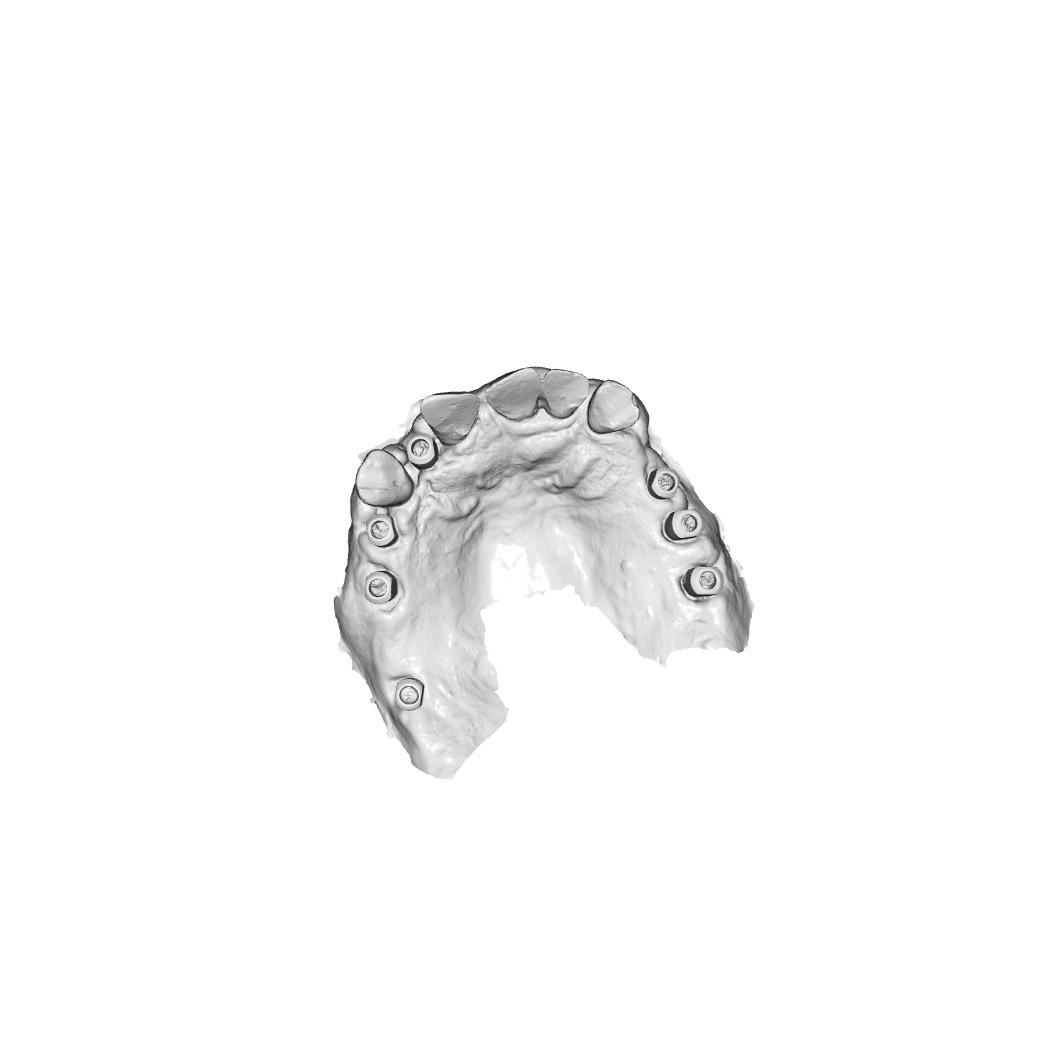canine: (580, 378, 641, 439), (355, 452, 416, 509)
implant: (391, 673, 430, 714), (687, 561, 725, 598), (404, 434, 443, 469), (364, 513, 400, 549), (363, 567, 398, 604), (666, 507, 703, 541), (650, 465, 685, 495)
incisor: (419, 388, 486, 448), (488, 367, 548, 420), (542, 365, 594, 413)
